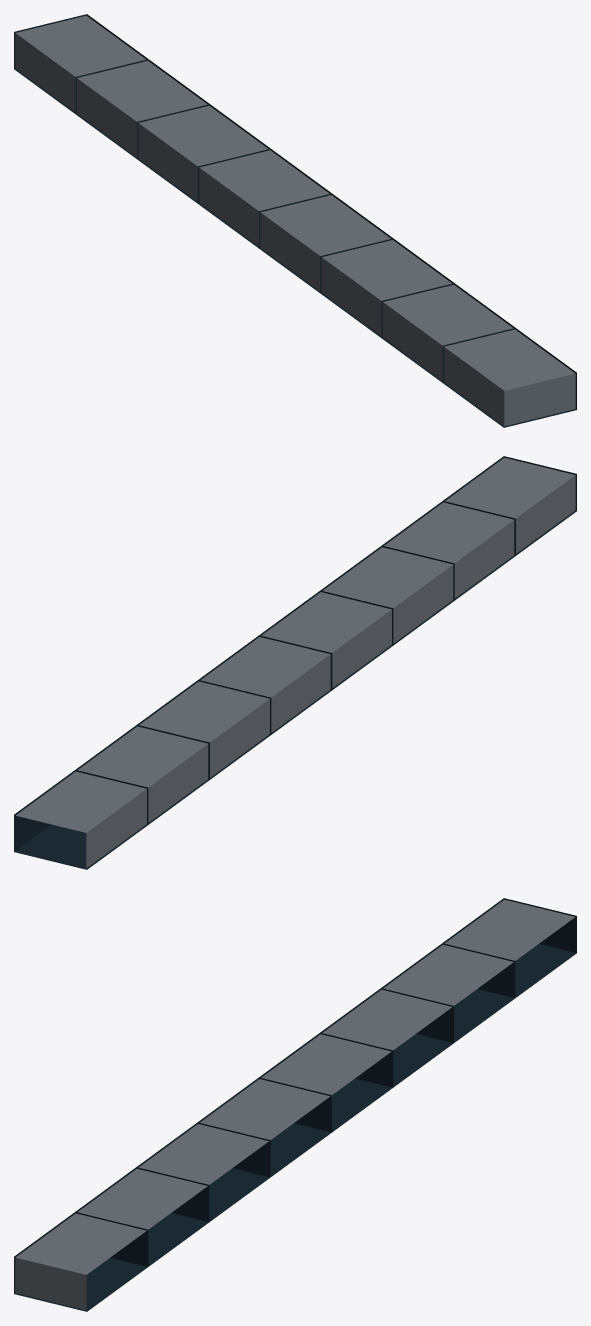
The model's file is sidewalk.fbx.
3 renders of one model, top to bottom at view 1: azimuth 30°, elevation 25°; view 2: azimuth 150°, elevation 25°; view 3: azimuth 330°, elevation 25°, orthographic.
Parts seen in each view (by area): view 1: sidewalk_GEO (×2), sidewalk_GEO6, sidewalk_GEO2, sidewalk_GEO1, sidewalk_GEO5, sidewalk_GEO3, sidewalk_GEO4, sidewalk_1_outline (×8); view 2: sidewalk_GEO (×2), sidewalk_1_outline (×8), sidewalk_GEO6, sidewalk_GEO5, sidewalk_GEO1, sidewalk_GEO4, sidewalk_GEO2, sidewalk_GEO3; view 3: sidewalk_1_outline (×8), sidewalk_GEO (×2), sidewalk_GEO6, sidewalk_GEO5, sidewalk_GEO2, sidewalk_GEO3, sidewalk_GEO1, sidewalk_GEO4.
Boxes of the visible parts, left/top/right/bottom form: sidewalk_GEO (×2): left=383, top=284, right=575, bottom=426; sidewalk_GEO6: left=15, top=15, right=145, bottom=111; sidewalk_GEO2: left=260, top=195, right=390, bottom=290; sidewalk_GEO1: left=321, top=240, right=451, bottom=335; sidewalk_GEO5: left=77, top=61, right=207, bottom=156; sidewalk_GEO3: left=199, top=150, right=329, bottom=246; sidewalk_GEO4: left=138, top=105, right=268, bottom=201; sidewalk_1_outline (×8): left=14, top=14, right=576, bottom=427; sidewalk_GEO (×2): left=384, top=457, right=575, bottom=598; sidewalk_1_outline (×8): left=14, top=456, right=576, bottom=869; sidewalk_GEO6: left=16, top=771, right=146, bottom=867; sidewalk_GEO5: left=78, top=726, right=208, bottom=822; sidewalk_GEO1: left=323, top=547, right=453, bottom=643; sidewalk_GEO4: left=139, top=681, right=269, bottom=777; sidewalk_GEO2: left=261, top=592, right=391, bottom=687; sidewalk_GEO3: left=201, top=637, right=330, bottom=732; sidewalk_1_outline (×8): left=14, top=898, right=576, bottom=1311; sidewalk_GEO (×2): left=15, top=1168, right=207, bottom=1310; sidewalk_GEO6: left=445, top=899, right=574, bottom=960; sidewalk_GEO5: left=383, top=945, right=513, bottom=1005; sidewalk_GEO2: left=200, top=1079, right=329, bottom=1139; sidewalk_GEO3: left=261, top=1034, right=391, bottom=1094; sidewalk_GEO1: left=139, top=1124, right=268, bottom=1184; sidewalk_GEO4: left=322, top=989, right=451, bottom=1050.
Bounding box in the file's own units: 7.85 × 3.84 × 91.19.
